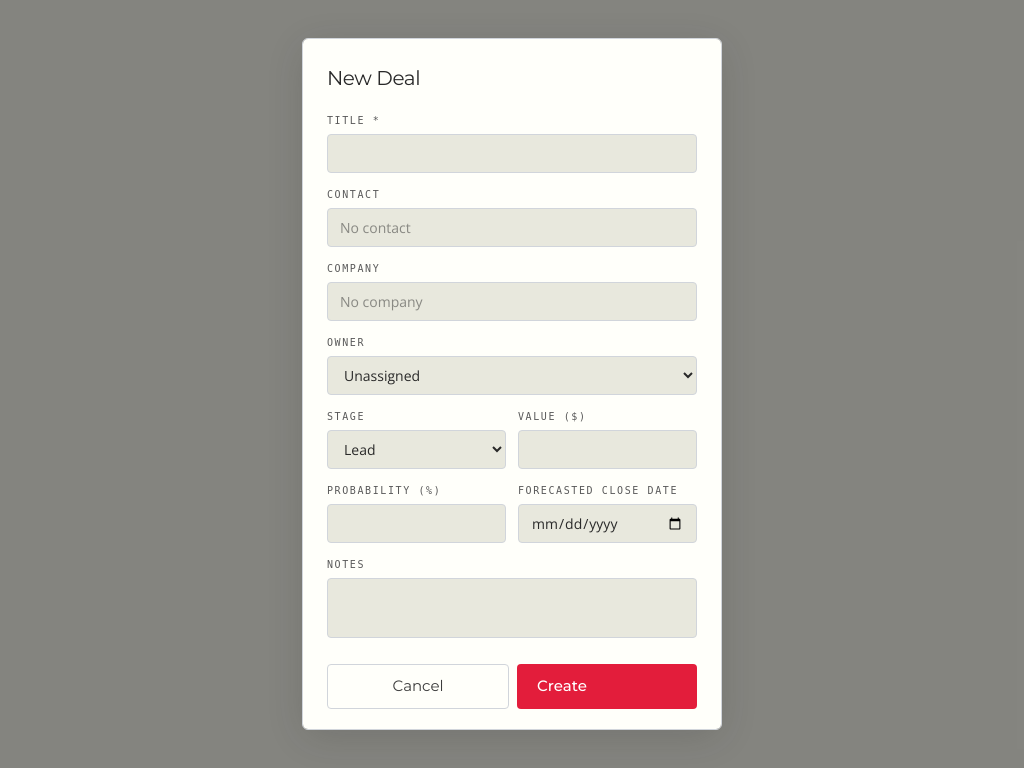
Test: DealForm — company labelling › shows a contact's company as the row sublabel
Click the dropdown labelled "Contact": (512, 228) [327,208,697,247]
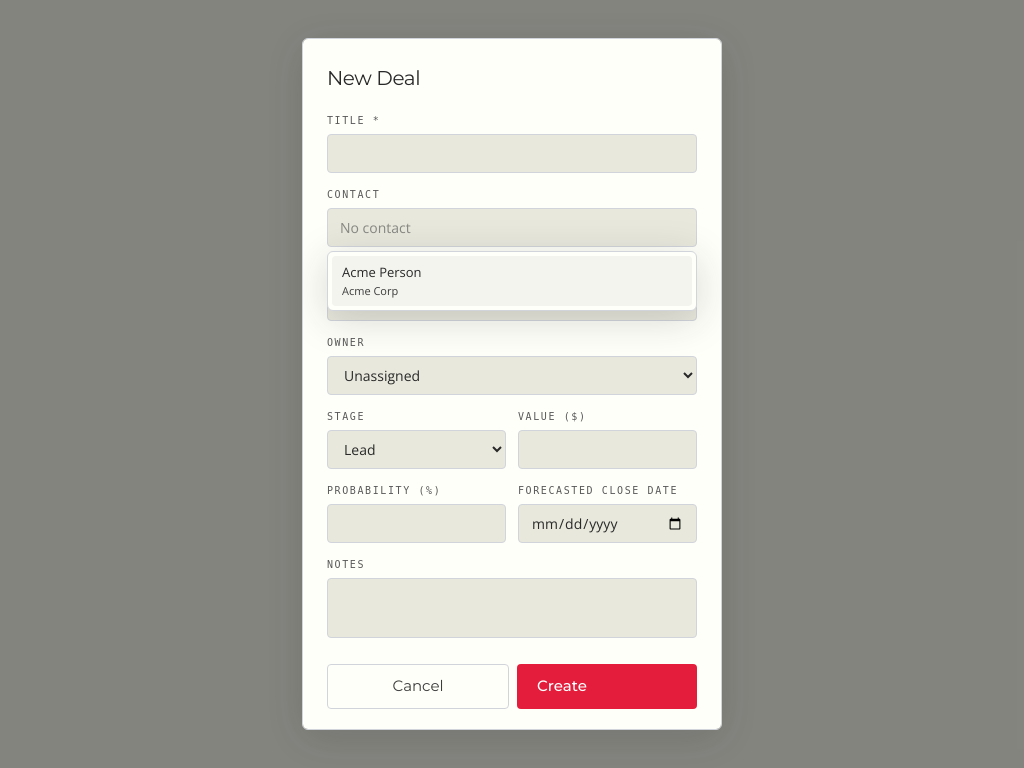
Expected: the option "Acme Person Acme Corp" is shown, [332,256,692,306]
